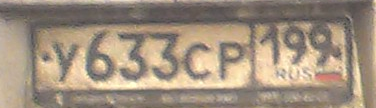character: (82, 28, 116, 86), (117, 29, 149, 84), (150, 30, 181, 82), (183, 39, 214, 83), (216, 41, 247, 84), (51, 39, 79, 86), (309, 22, 334, 68), (284, 24, 308, 66), (259, 26, 281, 67)
